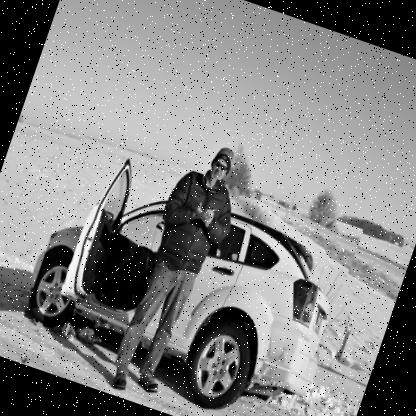Car: (16, 134, 363, 415)
